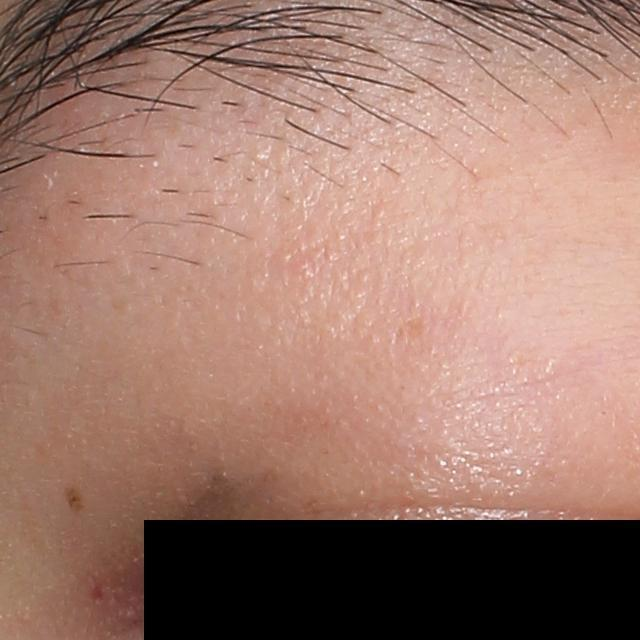melasma: (65, 484, 87, 515)
